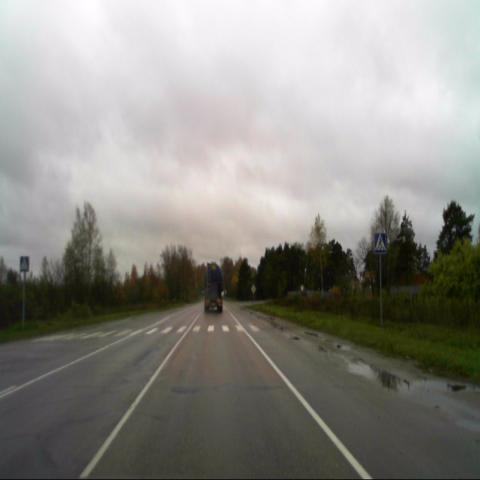5_19_1: (374, 231, 386, 254), (19, 254, 30, 275)
